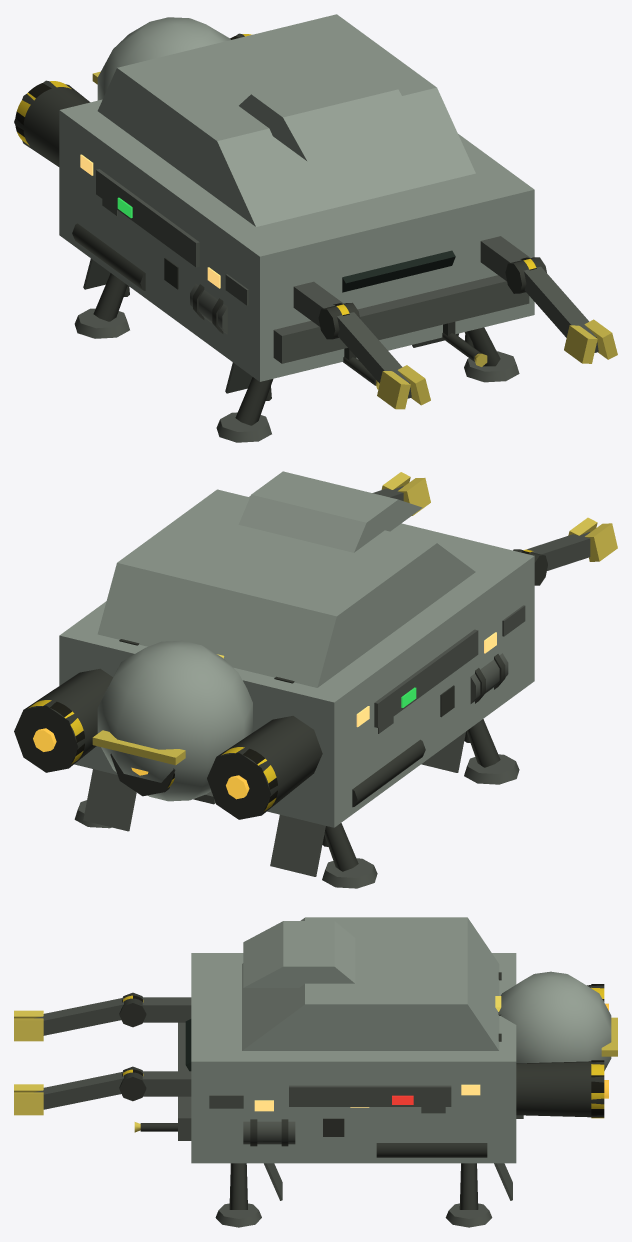
Rendered from tug-m.glb.
3 renders of one model, top to bottom at view 1: azimuth 30°, elevation 25°; view 2: azimuth 150°, elevation 25°; view 3: azimuth 270°, elevation 25°, orthographic. The views are drawn at different scales.
Visible parts, largest first — view 1: hullMain, hullUpper, canopyFairing, accentStripe, armFore (×2), fuelBell, gearFoot (×3), engineHousing, hazardFlankL, gearStrut (×3), armUpper (×2), armJawA (×2) (+5 smaller); view 2: hullUpper, hullMain, fuelBell, engineHousing (×3), canopyFairing, gearBayDoor (×3), hazardFlankL, gearFoot (×2), gearStrut (×2), armJawA (×2), tugShipServicePipeL, armFore (+2 smaller); view 3: hullMain, hullUpper, fuelBell, canopyFairing, engineHousing, armFore (×2), hazardFlankR, armUpper (×2), gearStrut (×2), tugShipServicePipeR, gearFoot (×2), armJawB (×2) (+4 smaller).
Part boxes in pixels (box(x1,y1,x2,y2)): hullMain: box(59, 99, 534, 381); hullUpper: box(97, 14, 475, 226); canopyFairing: box(239, 66, 422, 161); accentStripe: box(273, 275, 529, 363); armFore (×2): box(337, 266, 598, 398); fuelBell: box(97, 17, 230, 100); gearFoot (×3): box(74, 308, 519, 442); engineHousing: box(14, 80, 90, 166); hazardFlankL: box(96, 169, 199, 267); gearStrut (×3): box(93, 273, 500, 425); armUpper (×2): box(293, 236, 530, 326); armJawA (×2): box(377, 325, 597, 409); hullUpper: box(97, 489, 475, 687); hullMain: box(59, 495, 534, 827); fuelBell: box(97, 640, 252, 801); engineHousing (×3): box(14, 668, 322, 819); canopyFairing: box(238, 471, 422, 552); gearBayDoor (×3): box(83, 732, 465, 876); hazardFlankL: box(374, 629, 478, 727); gearFoot (×2): box(322, 754, 519, 888); gearStrut (×2): box(324, 719, 500, 871); armJawA (×2): box(398, 478, 617, 561); tugShipServicePipeL: box(352, 739, 425, 807); armFore: box(527, 531, 590, 570); hullMain: box(191, 953, 516, 1163); hullUpper: box(242, 917, 499, 1050); fuelBell: box(499, 971, 611, 1070); canopyFairing: box(243, 921, 355, 987); engineHousing: box(516, 1061, 604, 1117); armFore (×2): box(34, 997, 123, 1109); hazardFlankR: box(289, 1085, 451, 1106); armUpper (×2): box(142, 997, 191, 1096); gearStrut (×2): box(229, 1163, 478, 1209); tugShipServicePipeR: box(376, 1143, 487, 1157); gearFoot (×2): box(215, 1203, 492, 1227); armJawB (×2): box(14, 1018, 43, 1115).
Bounding box in the file's own units: 2.06 × 1.83 × 4.46.
